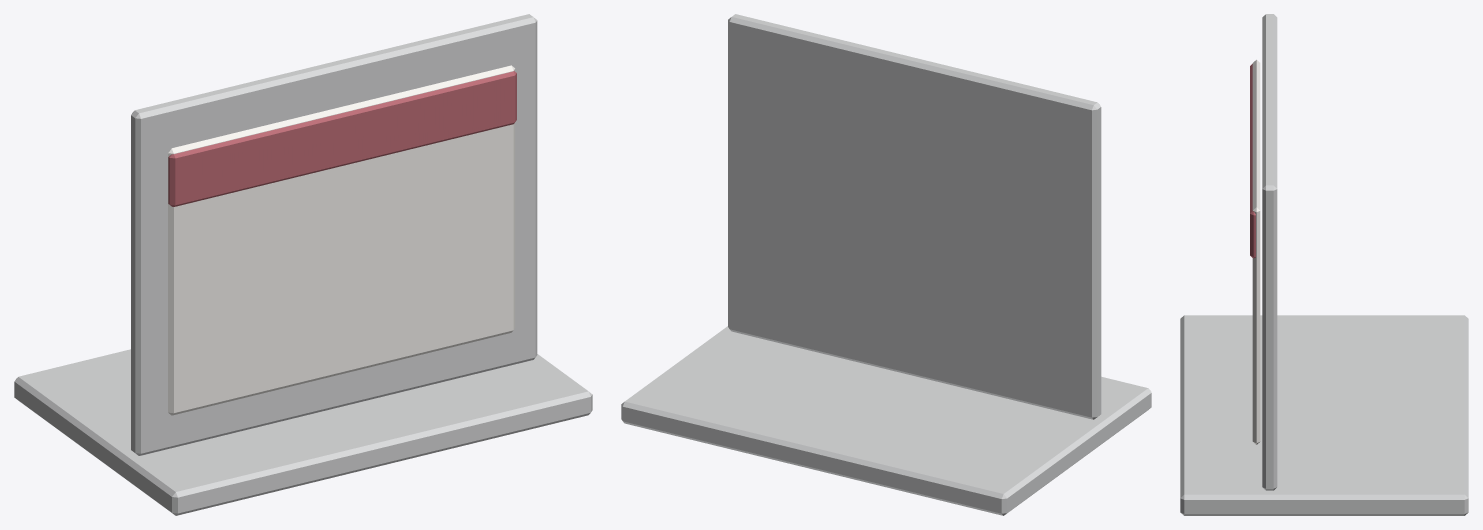
The model's file is prop_price_standee_01.glb.
3 renders of one model, left to right at view 1: azimuth 30°, elevation 25°; view 2: azimuth 150°, elevation 25°; view 3: azimuth 270°, elevation 25°, orthographic. The views are drawn at different scales.
Parts seen in each view (by area): view 1: prop_price_standee_01; view 2: prop_price_standee_01; view 3: prop_price_standee_01.
Part boxes in pixels (x1,y1,x2,y2): prop_price_standee_01: (14,14,592,515); prop_price_standee_01: (621,14,1151,515); prop_price_standee_01: (1180,14,1468,515).
Bounding box in the file's own units: 0.12 × 0.1 × 0.08.
